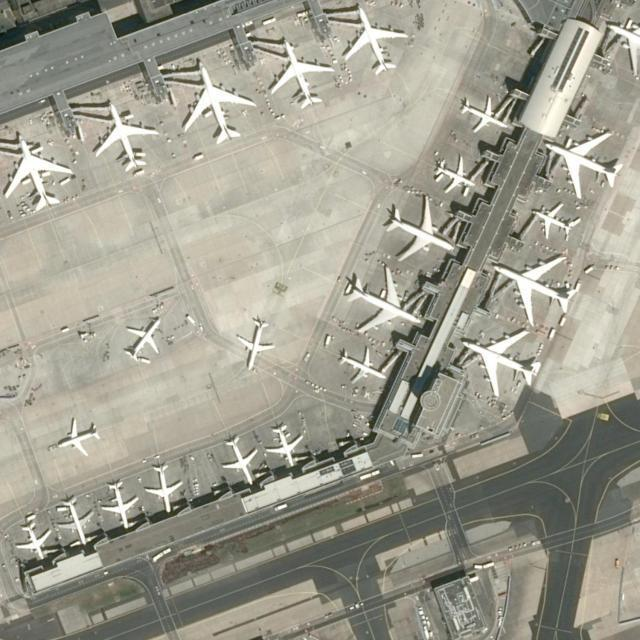Aircraft: (484, 252, 582, 326), (0, 127, 76, 215), (178, 58, 252, 148), (455, 324, 541, 397), (344, 268, 424, 344), (539, 127, 621, 197), (339, 4, 405, 83), (93, 95, 156, 176), (381, 196, 453, 266), (263, 36, 330, 110), (123, 308, 170, 364), (333, 345, 389, 389), (216, 427, 258, 485), (427, 154, 483, 197), (459, 91, 515, 134), (237, 311, 275, 371), (531, 202, 585, 243), (605, 12, 639, 76), (146, 461, 186, 515), (57, 494, 98, 545), (264, 418, 307, 465), (53, 417, 101, 457), (101, 488, 141, 534), (17, 515, 52, 562)
